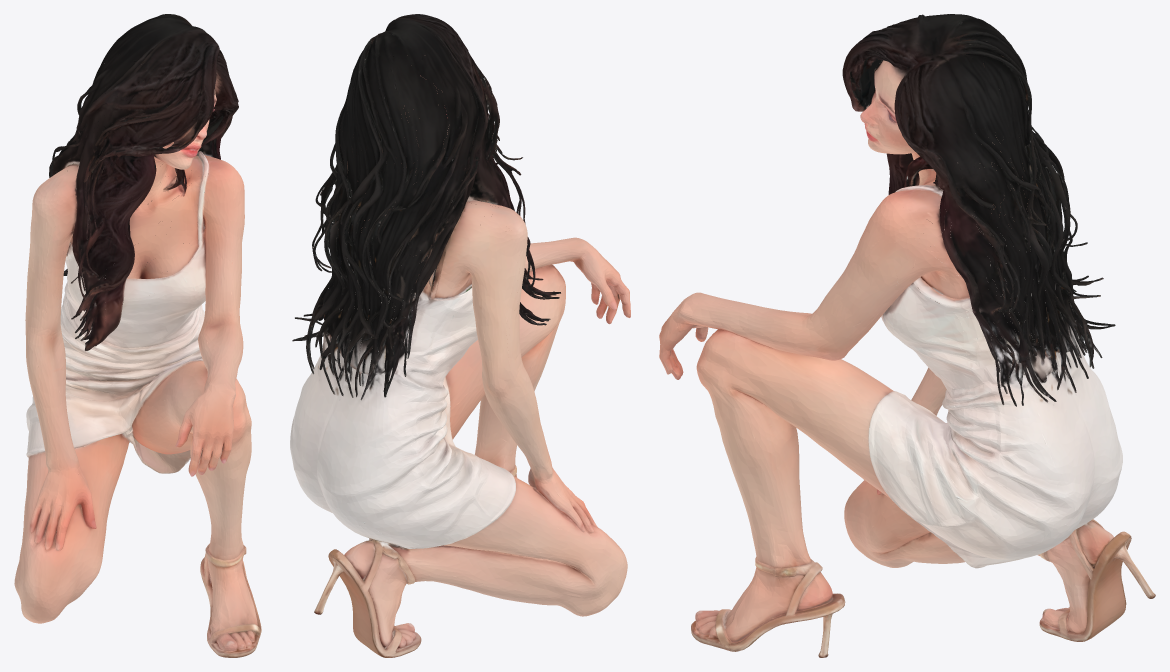
File: squat.glb
The picture shows the model from 3 angles, left to right: view 1: azimuth 30°, elevation 25°; view 2: azimuth 150°, elevation 25°; view 3: azimuth 270°, elevation 25°; orthographic projection. The views are drawn at different scales.
Visible parts, largest first — view 1: Mesh_0_modddif_material_0_0 (×2); view 2: Mesh_0_modddif_material_0_0 (×2); view 3: Mesh_0_modddif_material_0_0 (×2).
Boxes of the visible parts, left/top/right/bottom form: Mesh_0_modddif_material_0_0 (×2): left=14, top=14, right=261, bottom=657; Mesh_0_modddif_material_0_0 (×2): left=290, top=14, right=630, bottom=657; Mesh_0_modddif_material_0_0 (×2): left=659, top=14, right=1155, bottom=657.
Size of the model in its own units: 0.486 by 1 by 0.7055.
Materials: 1 (1 with a texture image).
